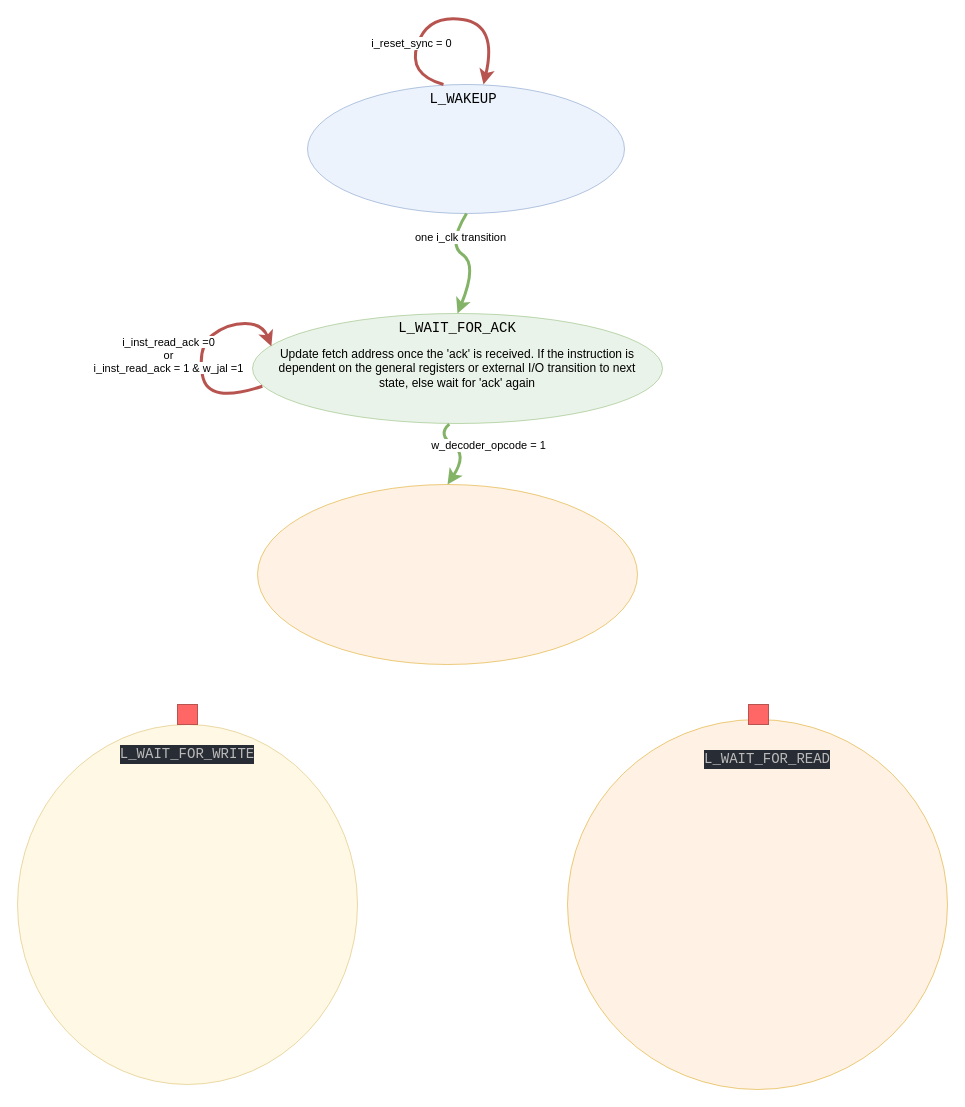
This 965x1107 diagram has some shape labels left out. Each missing label, with the box of its shape:
Assert program counter valid and transition to wait for acknowledge.: (306, 84, 624, 214)
L_WAIT_FOR_DECODER: (256, 484, 638, 664)
